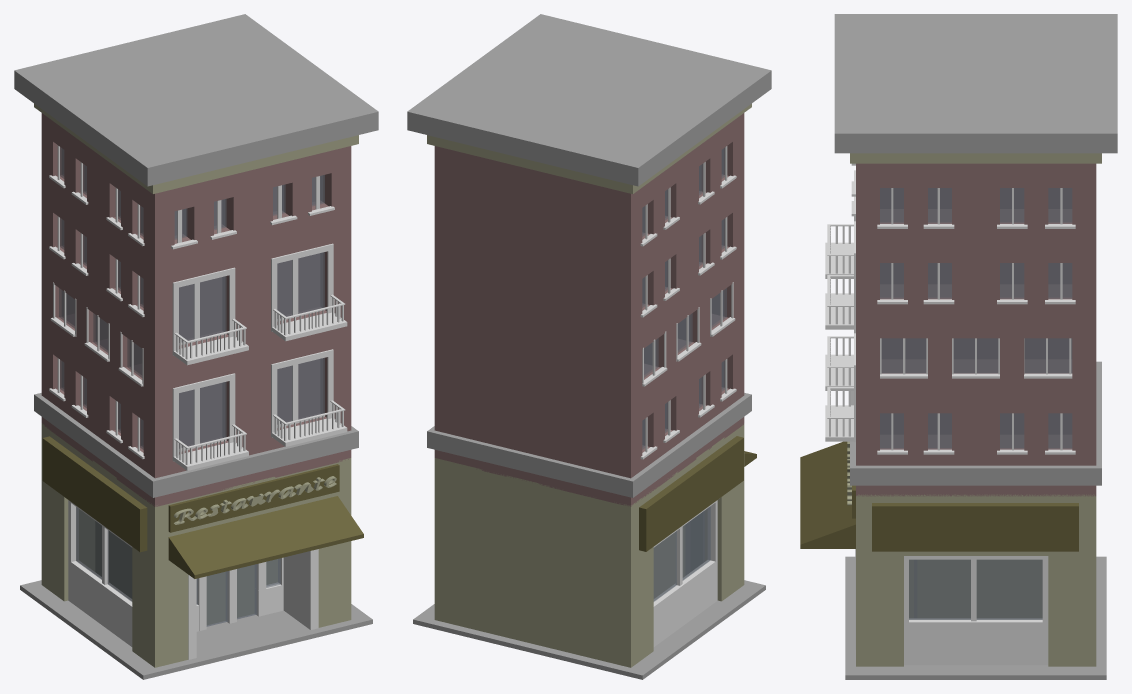
File: edif1.1.fbx
The picture shows the model from 3 angles, left to right: view 1: azimuth 30°, elevation 25°; view 2: azimuth 150°, elevation 25°; view 3: azimuth 270°, elevation 25°; orthographic projection. The views are drawn at different scales.
Visible parts, largest first — view 1: pCube58; view 2: pCube58; view 3: pCube58.
Boxes of the visible parts, x1,y1,x2,y2 form: pCube58: [14, 14, 378, 679]; pCube58: [407, 14, 771, 679]; pCube58: [800, 14, 1117, 679].
Size of the model in its own units: 6.76 by 14.43 by 7.58.
